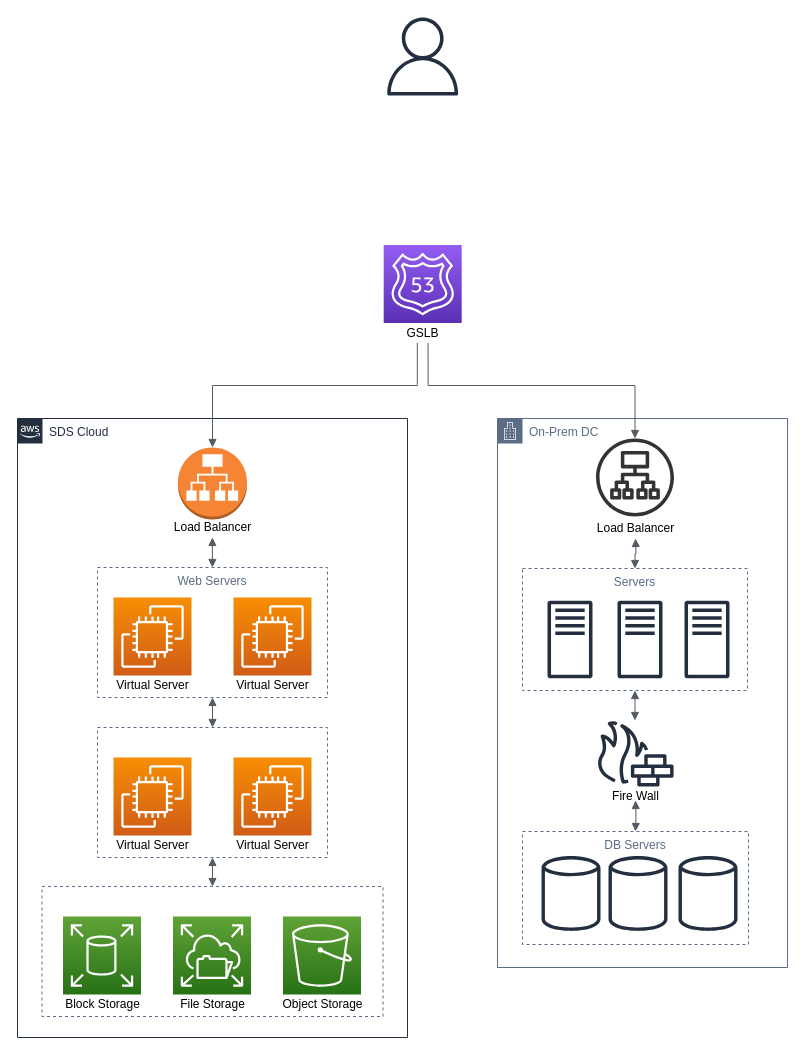
This 805x1055 diagram has some shape labels left out. Here are the shapes that lost their labels. From the top down, the box of each, then its label:
(96, 726, 328, 858): App Servers
(41, 886, 383, 1016): Storages
